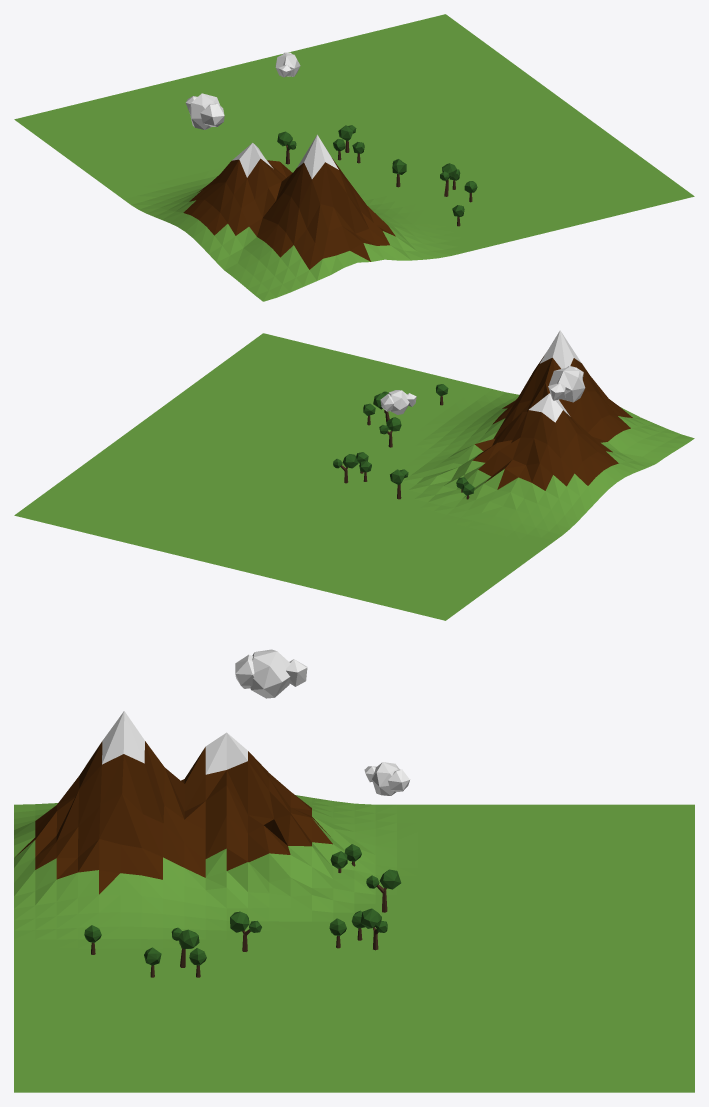
File: lowpoly.dae
3 views of the same model, one above another, from view 1: azimuth 30°, elevation 25°; view 2: azimuth 150°, elevation 25°; view 3: azimuth 270°, elevation 25° (orthographic). The views are drawn at different scales.
Parts seen in each view (by area): view 1: Plane, Icosphere_001, Icosphere_009; view 2: Plane, Icosphere_001, Icosphere_009; view 3: Plane, Icosphere_001, Icosphere_009.
Part boxes in pixels (x1=…): Plane: x1=14, y1=14, x2=694, y2=301; Icosphere_001: x1=185, y1=93, x2=224, y2=129; Icosphere_009: x1=275, y1=52, x2=300, y2=77; Plane: x1=14, y1=330, x2=694, y2=620; Icosphere_001: x1=548, y1=366, x2=585, y2=402; Icosphere_009: x1=380, y1=390, x2=416, y2=414; Plane: x1=14, y1=711, x2=694, y2=1092; Icosphere_001: x1=235, y1=649, x2=307, y2=698; Icosphere_009: x1=364, y1=762, x2=409, y2=795.
Bounding box in the file's own units: 12.28 × 12.28 × 3.58.
